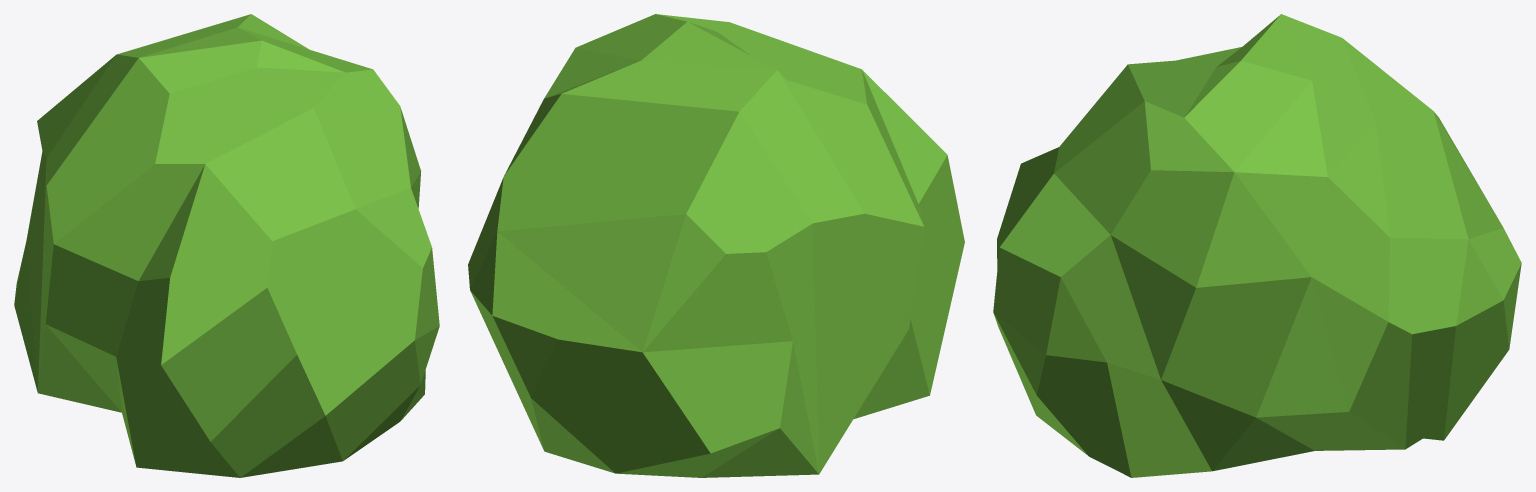
File: BushLowPoly2.fbx
The picture shows the model from 3 angles, left to right: view 1: azimuth 30°, elevation 25°; view 2: azimuth 150°, elevation 25°; view 3: azimuth 270°, elevation 25°; orthographic projection. The views are drawn at different scales.
Parts seen in each view (by area): view 1: BushLowPoly; view 2: BushLowPoly; view 3: BushLowPoly.
Part boxes in pixels (bbox=[...]): BushLowPoly: bbox=[14, 14, 439, 477]; BushLowPoly: bbox=[468, 14, 964, 477]; BushLowPoly: bbox=[993, 14, 1521, 477].
Bounding box in the file's own units: 161 × 151 × 199.
